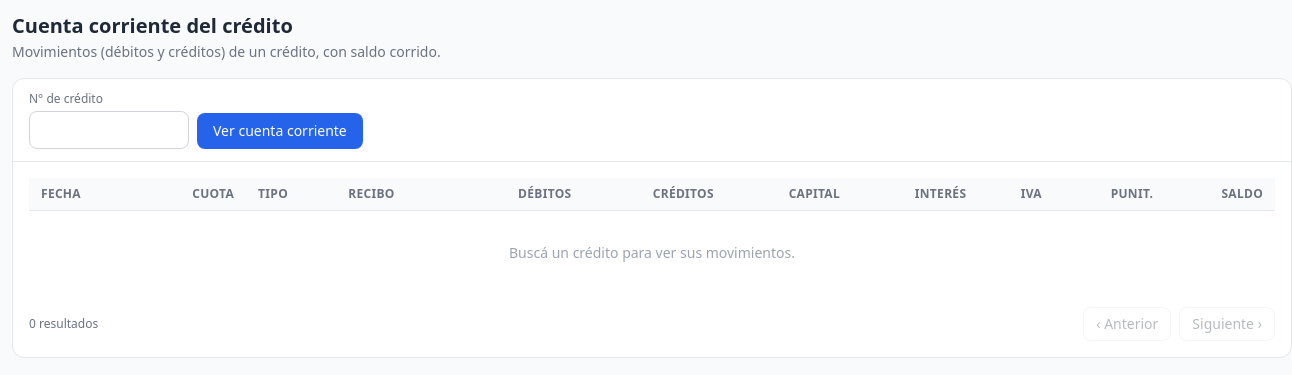
it: Cuenta corriente del crédito › busca los movimientos del crédito pedido
The width and height of the screenshot is (1292, 375).
Type "900" into the field labelled "N° de crédito" at (109, 130), box [29,111,189,149]
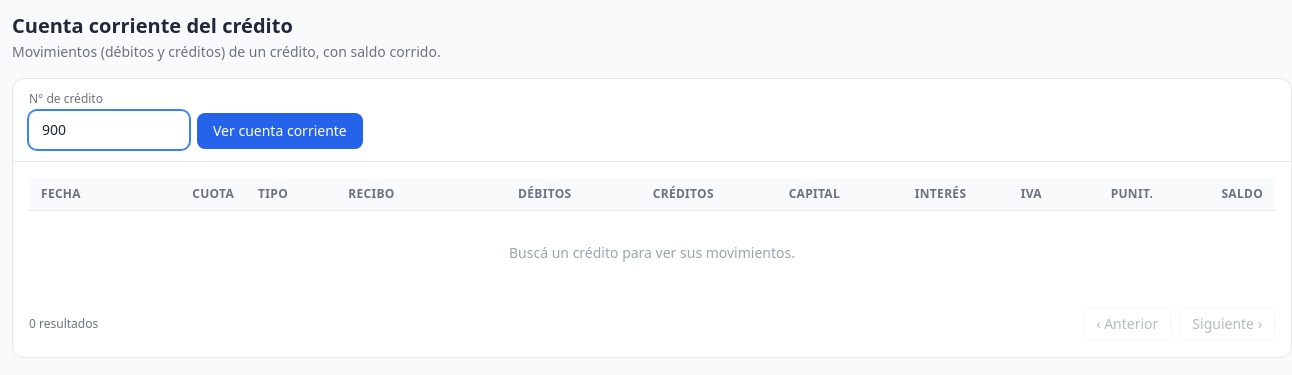
Click the button "Ver cuenta corriente" at (280, 131), box [197,113,363,149]
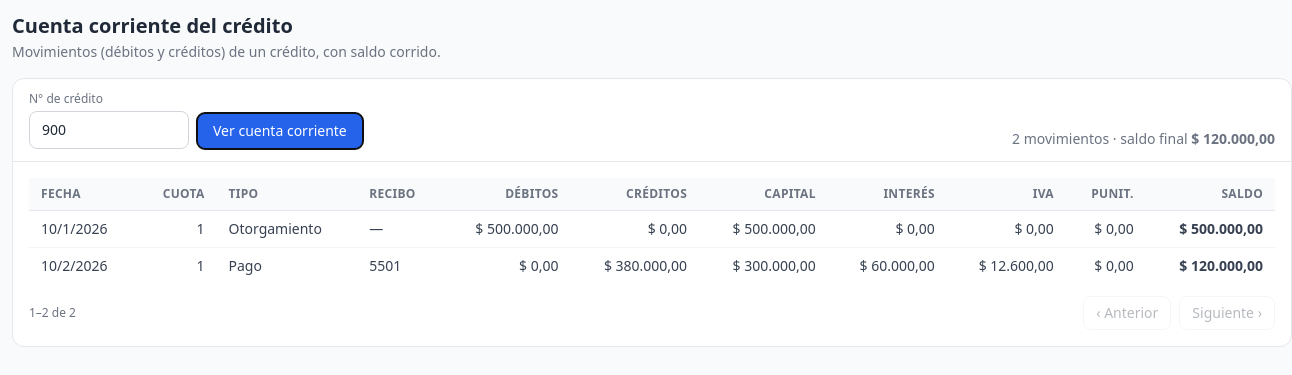
Now the text "Otorgamiento" is shown, box [216,210,357,248]
Now the text "Pago" is shown, box [216,248,357,284]
Now the text "2 movimientos · saldo final $ 120.000,00" is shown, box [1012,129,1275,149]
